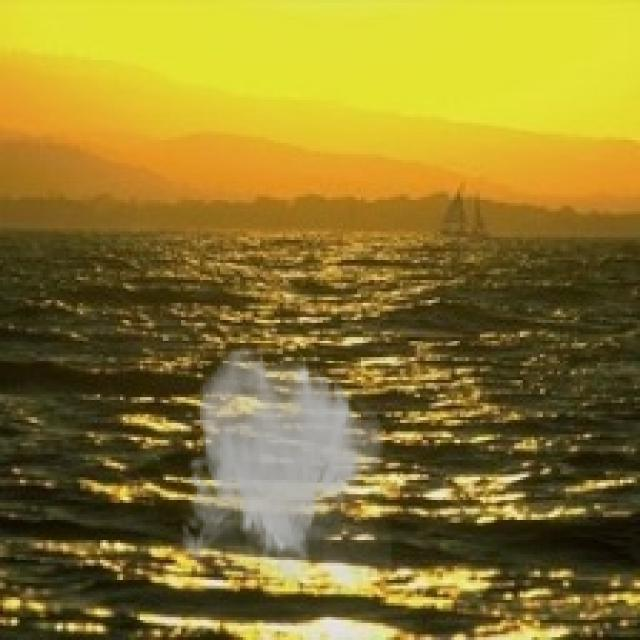Smoke: (175, 343, 392, 586)
